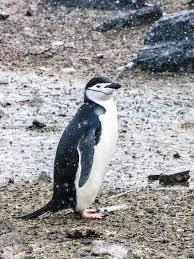chinstrap: (19, 62, 136, 233)
